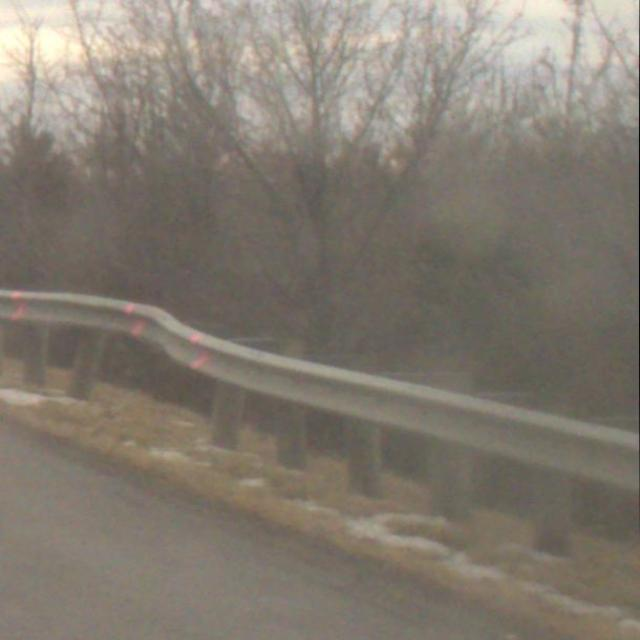Guard rail: (0, 285, 638, 574)
